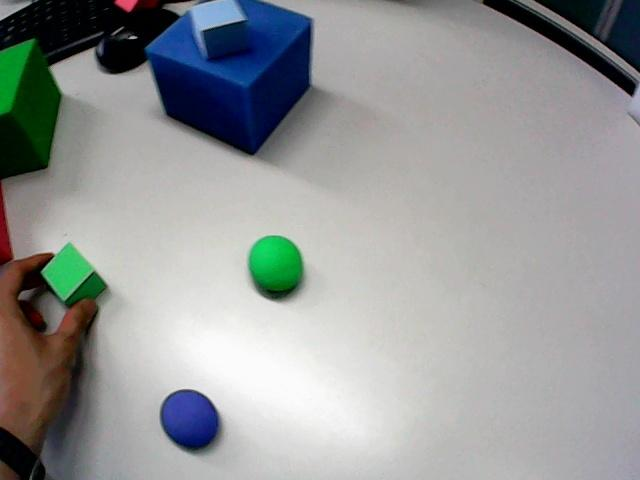blue_block: (146, 0, 311, 153), (189, 0, 248, 58), (606, 0, 639, 69)
red_block: (0, 184, 12, 264), (115, 0, 158, 11)
